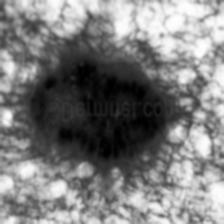Potentially Malignant Skin Tumors: (40, 60, 172, 96), (44, 122, 164, 160)
